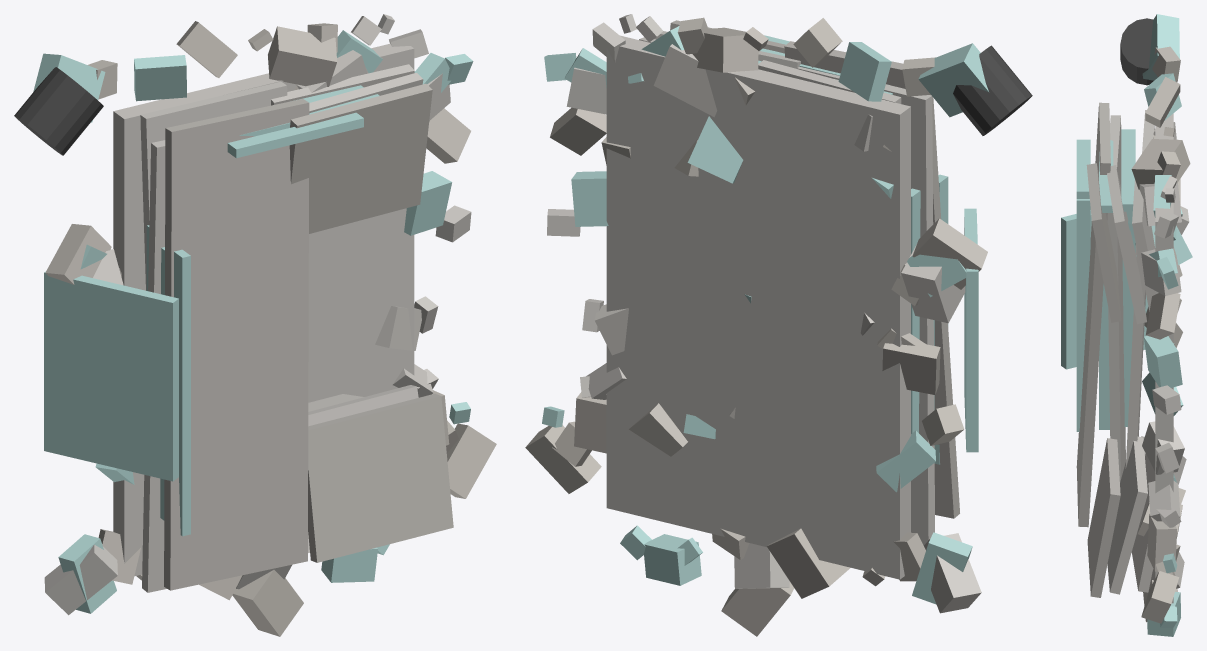
Rendered from collapsed_pancake_rowhouse.glb.
3 renders of one model, left to right at view 1: azimuth 30°, elevation 25°; view 2: azimuth 150°, elevation 25°; view 3: azimuth 270°, elevation 25°, orthographic. The views are drawn at different scales.
Parts seen in each view (by area): view 1: roof, concrete, teal, rubble, tank; view 2: concrete, rubble, teal, roof, tank; view 3: concrete, teal, roof, rubble, tank.
Part boxes in pixels (bbox=[...]): roof: bbox=[164, 83, 453, 590]; concrete: bbox=[44, 14, 471, 615]; teal: bbox=[33, 30, 473, 613]; rubble: bbox=[45, 21, 496, 636]; tank: bbox=[14, 67, 103, 155]; concrete: bbox=[547, 14, 981, 613]; rubble: bbox=[525, 17, 987, 636]; teal: bbox=[542, 26, 988, 604]; roof: bbox=[670, 20, 959, 518]; tank: bbox=[953, 45, 1032, 135]; concrete: bbox=[1107, 110, 1189, 603]; teal: bbox=[1061, 14, 1192, 636]; roof: bbox=[1076, 102, 1121, 597]; rubble: bbox=[1131, 46, 1190, 623]; tank: bbox=[1120, 18, 1153, 85].
Bounding box in the file's own units: 11.29 × 14.14 × 3.23.
